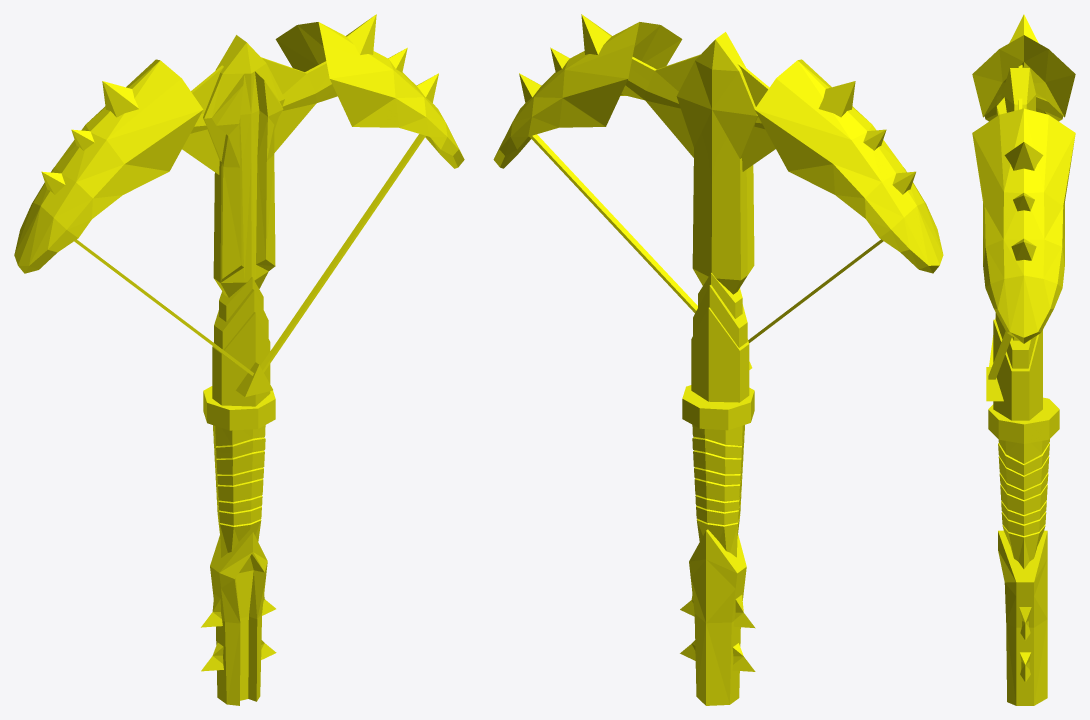
The model's file is _crossbow_17.glb.
The picture shows the model from 3 angles, left to right: view 1: azimuth 30°, elevation 25°; view 2: azimuth 150°, elevation 25°; view 3: azimuth 270°, elevation 25°; orthographic projection. The views are drawn at different scales.
Parts seen in each view (by area): view 1: crossbow_17; view 2: crossbow_17; view 3: crossbow_17.
Boxes of the visible parts, x1,y1,x2,y2 form: crossbow_17: (14,14,464,705); crossbow_17: (493,14,943,705); crossbow_17: (972,14,1075,705).
Bounding box in the file's own units: 0.6233 × 0.888 × 0.1321.
1 material, 1 textured.
